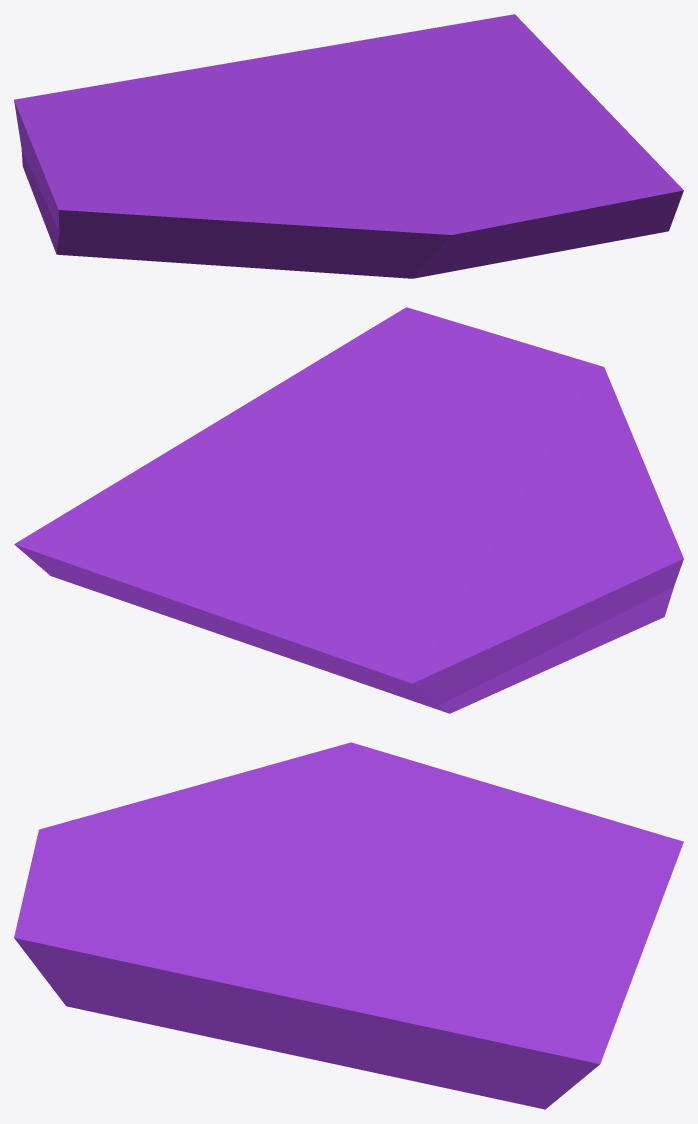
The model's file is Glass_100_2_1_chunks.fbx.
3 renders of one model, top to bottom at view 1: azimuth 30°, elevation 25°; view 2: azimuth 150°, elevation 25°; view 3: azimuth 270°, elevation 25°, orthographic. The views are drawn at different scales.
Visible parts, largest first — view 1: Glass_100_2_1_0; view 2: Glass_100_2_1_0; view 3: Glass_100_2_1_0.
Part boxes in pixels (x1,y1,x2,y2): Glass_100_2_1_0: [14, 14, 683, 278]; Glass_100_2_1_0: [14, 307, 683, 713]; Glass_100_2_1_0: [14, 742, 683, 1109].
Bounding box in the file's own units: 444 × 85.25 × 441.
